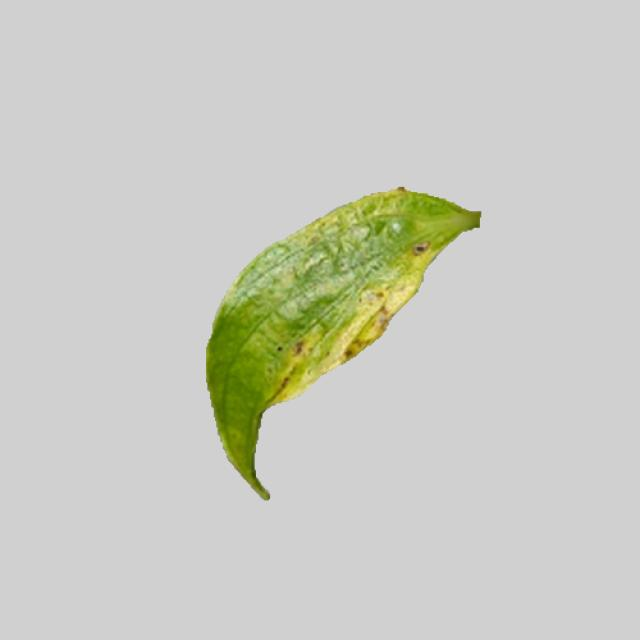yellow-mottle-virus: (187, 182, 485, 503)
